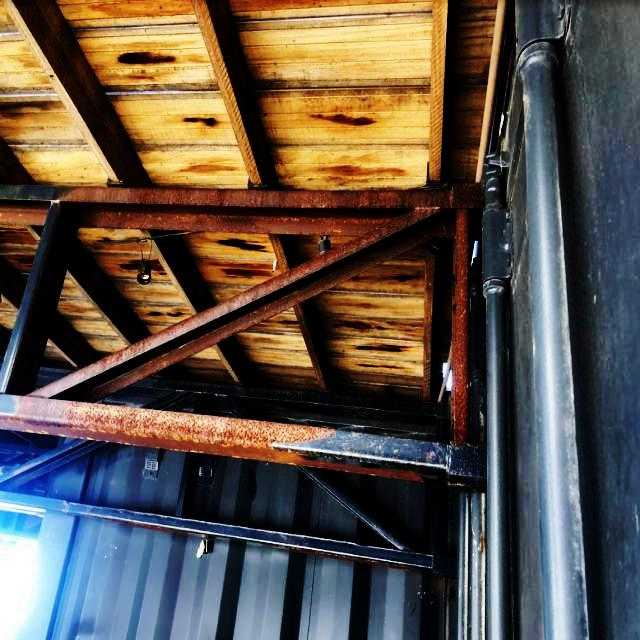Corrosion: (0, 181, 485, 485)
